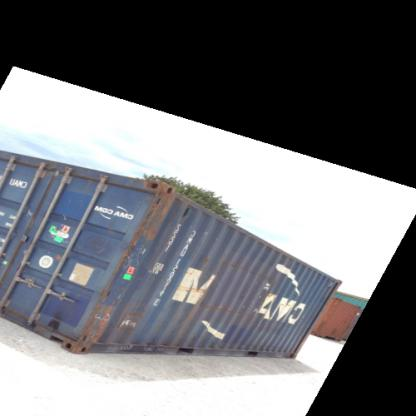Damage: (110, 191, 171, 279), (78, 284, 124, 347), (132, 336, 294, 350), (195, 298, 271, 316), (220, 259, 284, 274), (42, 306, 66, 334), (129, 298, 149, 328), (173, 282, 210, 294), (22, 202, 38, 224), (59, 207, 71, 223), (197, 251, 210, 264)
